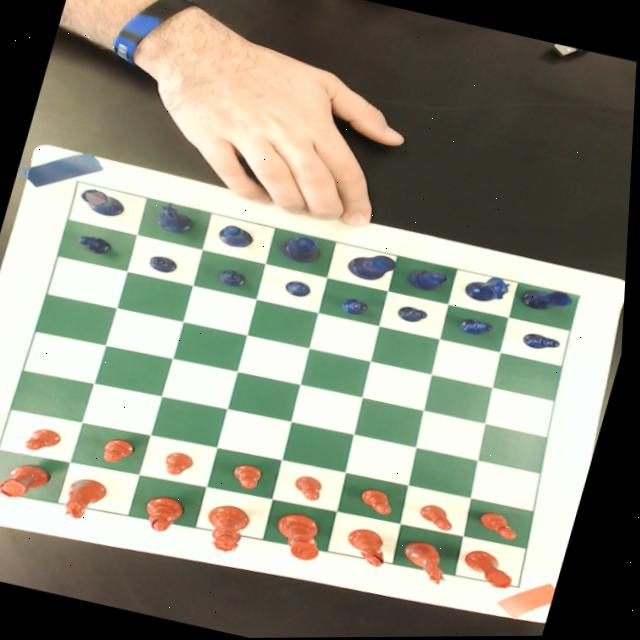B: (406, 265, 452, 295), (218, 220, 260, 251)
K: (347, 247, 402, 285)
N: (463, 269, 517, 307), (154, 199, 200, 235)
P: (523, 330, 567, 355), (398, 302, 436, 326), (460, 317, 500, 339), (78, 232, 116, 255), (283, 276, 319, 299), (149, 253, 183, 275), (218, 267, 251, 289), (343, 296, 374, 317)
Q: (279, 232, 328, 267)
R: (522, 282, 580, 317), (78, 184, 133, 219)
b: (141, 491, 194, 536), (346, 524, 399, 567)
k: (272, 508, 335, 564)
n: (402, 538, 461, 586), (65, 473, 117, 523)
p: (480, 509, 528, 541), (26, 423, 69, 455), (361, 485, 403, 516), (421, 502, 464, 532), (104, 435, 142, 466), (233, 460, 269, 491), (165, 449, 202, 478), (296, 473, 331, 502)
q: (203, 500, 258, 555)
r: (0, 457, 60, 505), (464, 547, 526, 590)
